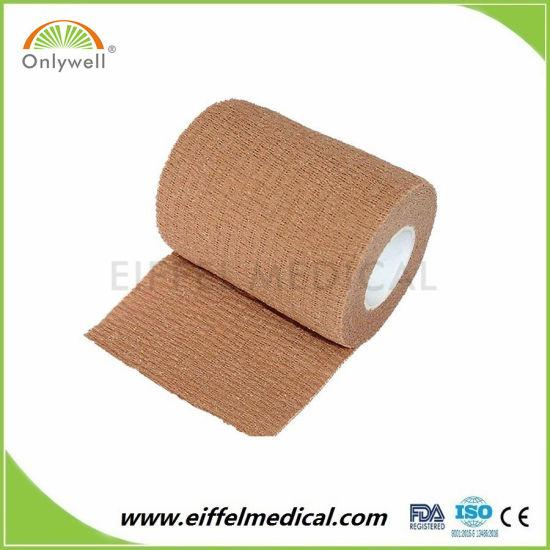bandage: (87, 97, 435, 436)
